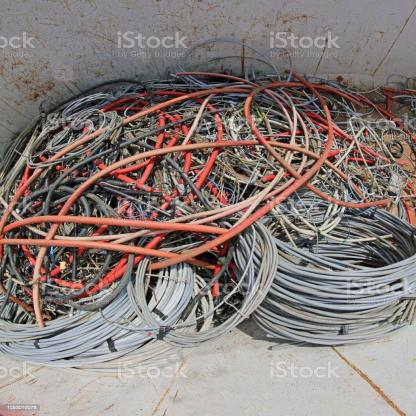wires: (0, 40, 414, 375)
